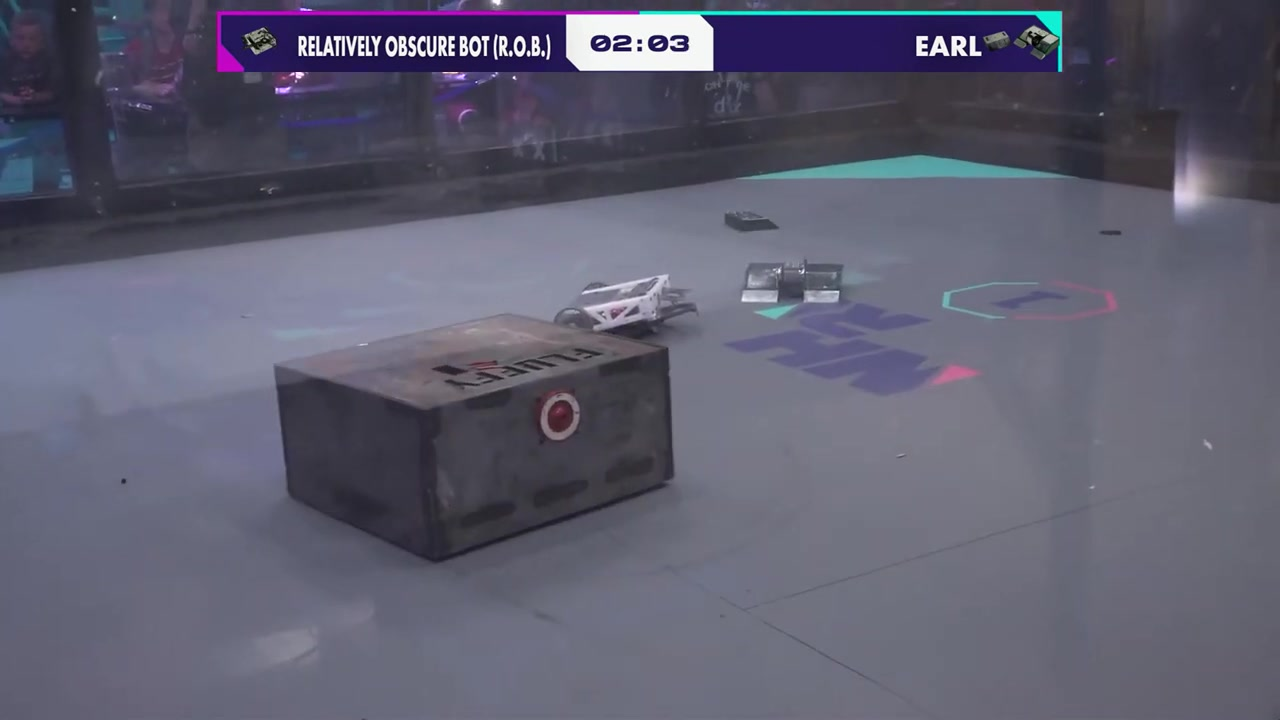combatbot: (556, 272, 699, 336), (739, 259, 848, 306)
housebot: (275, 311, 677, 563)
minibot: (722, 208, 782, 236)
